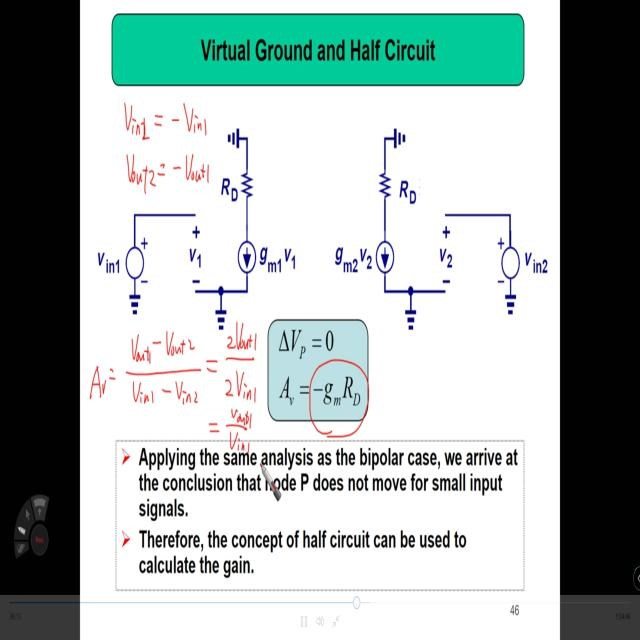panseo: (84, 312, 262, 466), (107, 88, 226, 218)
